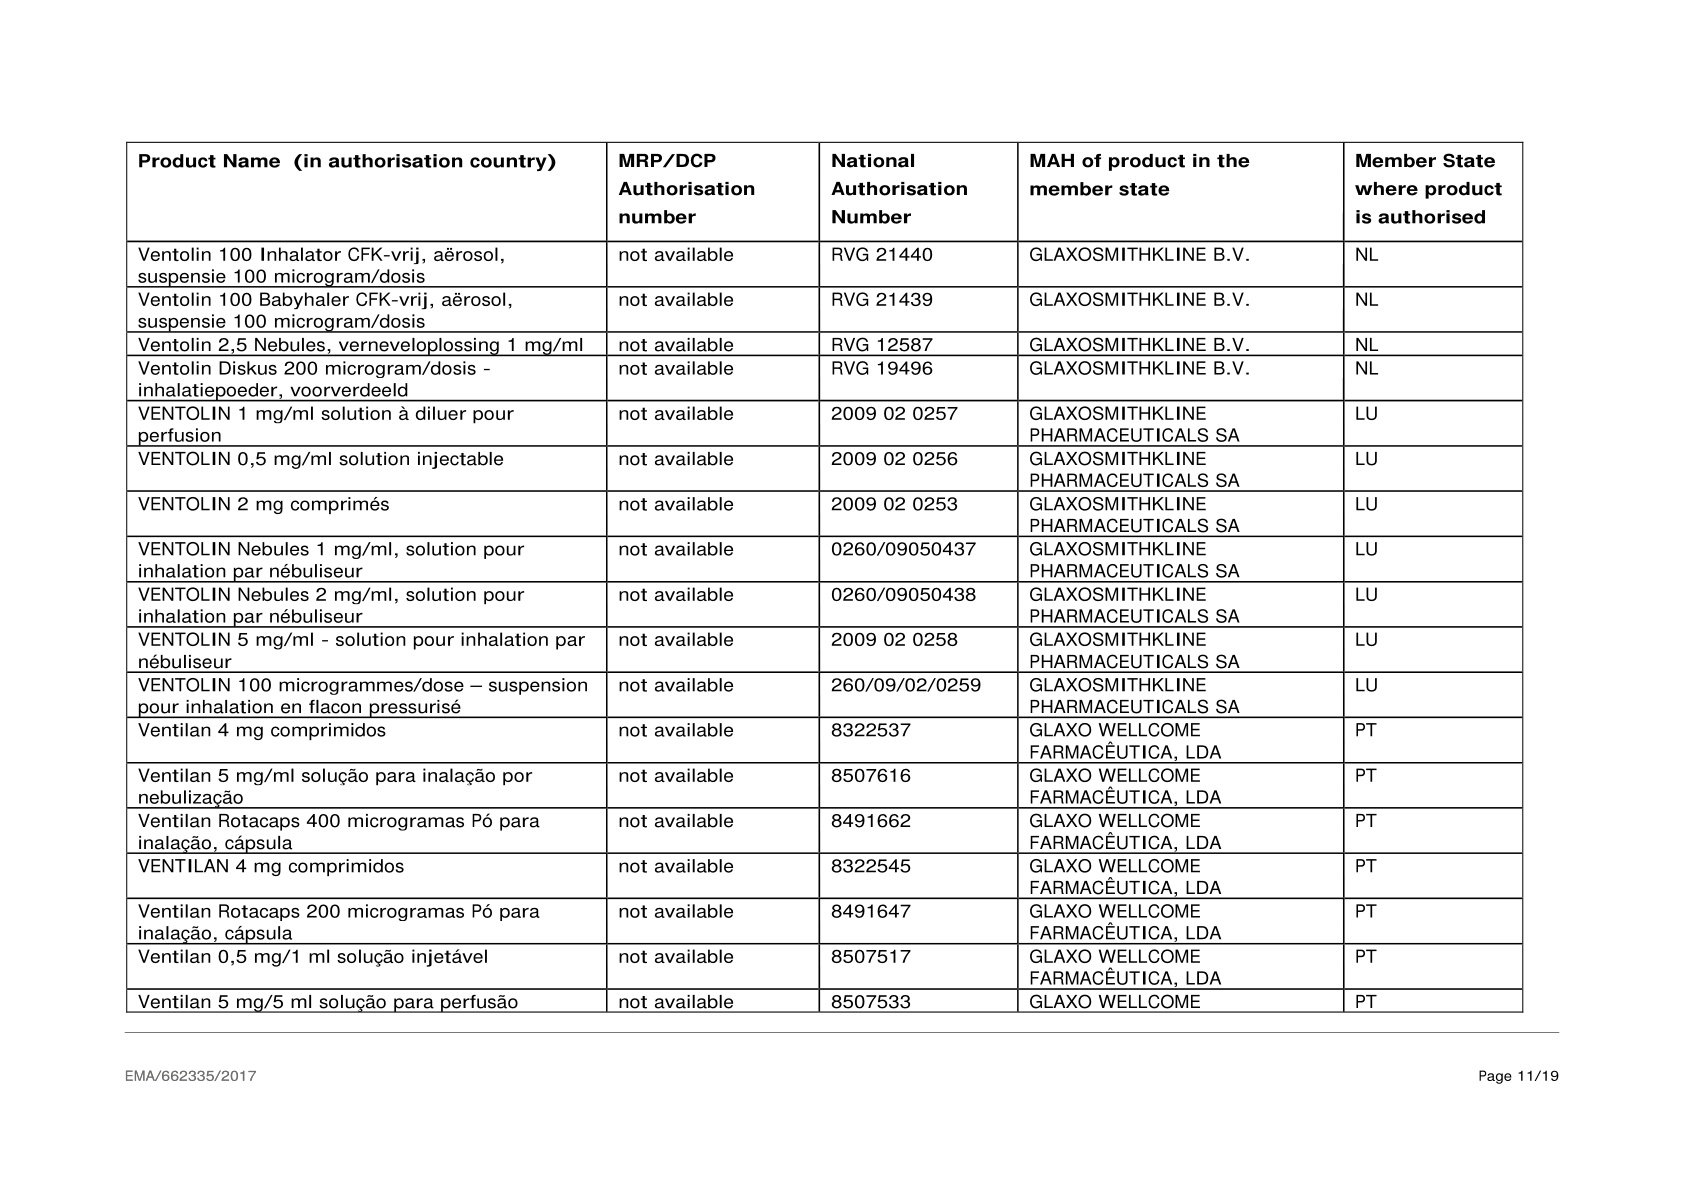full_lined: (113, 131, 1529, 1020)
